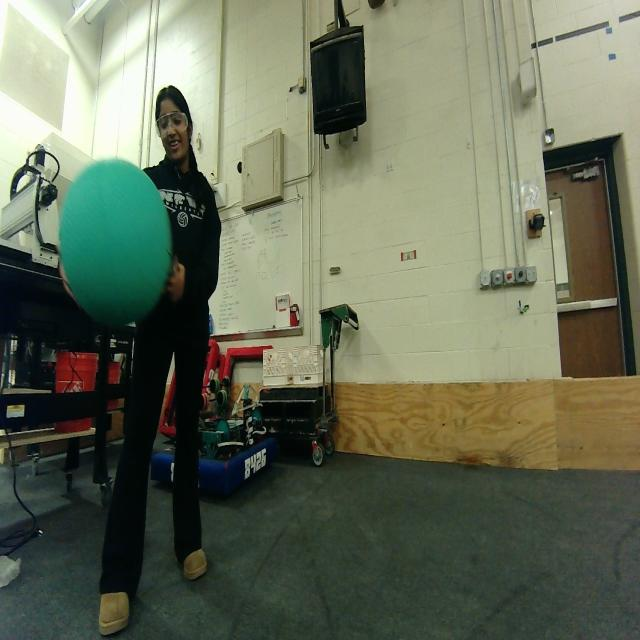algae: (54, 155, 170, 324)
